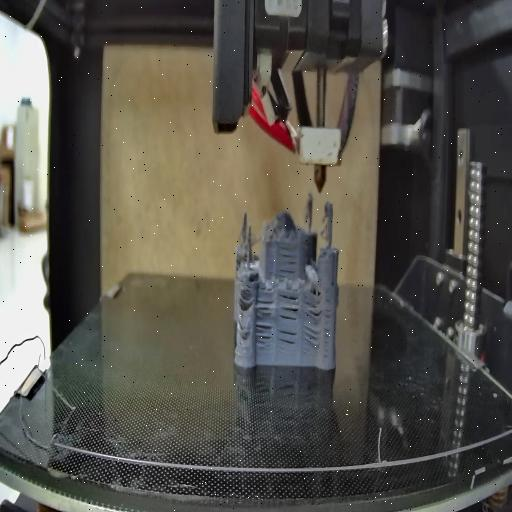cracks: (256, 297, 274, 351), (278, 246, 298, 276), (277, 292, 298, 320), (303, 294, 323, 320), (302, 324, 322, 349), (326, 293, 332, 368), (278, 326, 297, 348), (236, 321, 252, 343), (238, 290, 252, 312)
